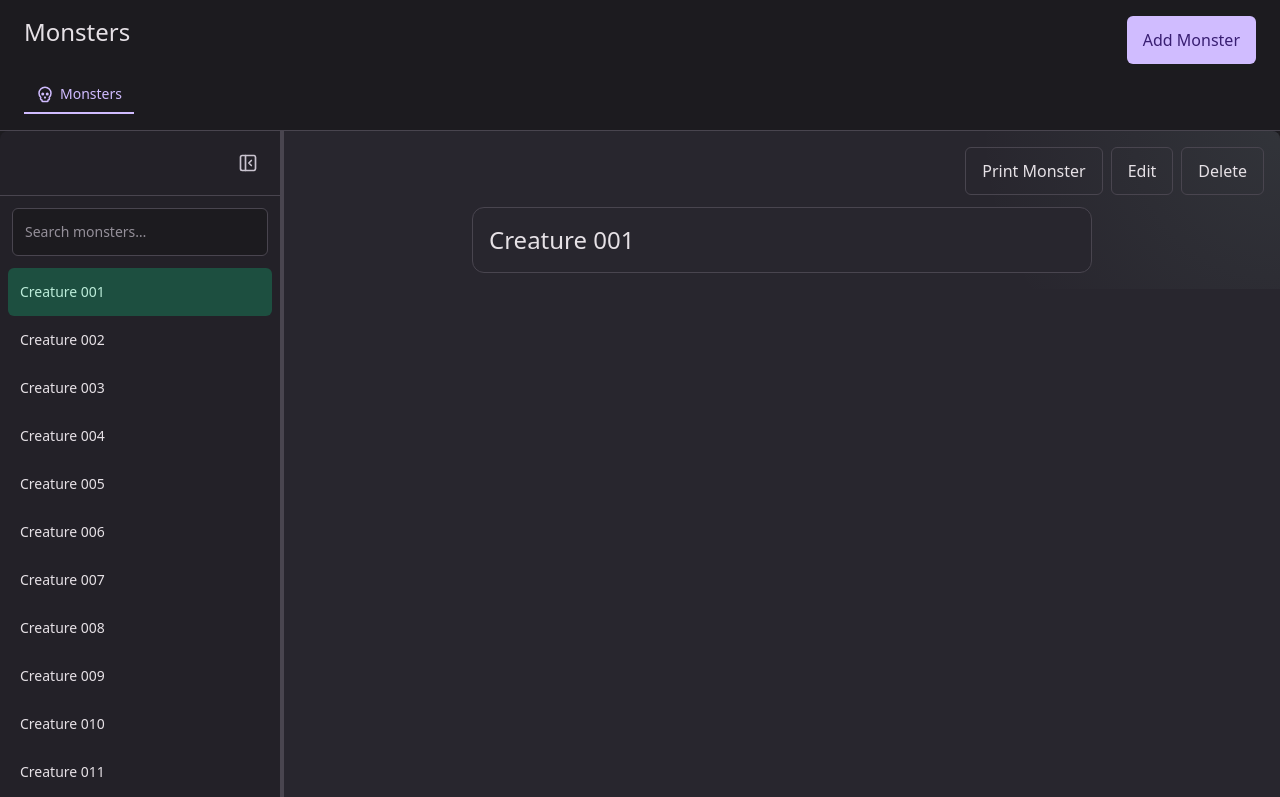
Scenario: MonsterBrowserPage › searches and selects a monster after the first 100 catalog rows
Expected: the button "Creature 001" is shown, [8,268,272,316]
Type "Beyond First" into the search field labelled "Search monsters…" at (140, 232), box [12,208,268,256]
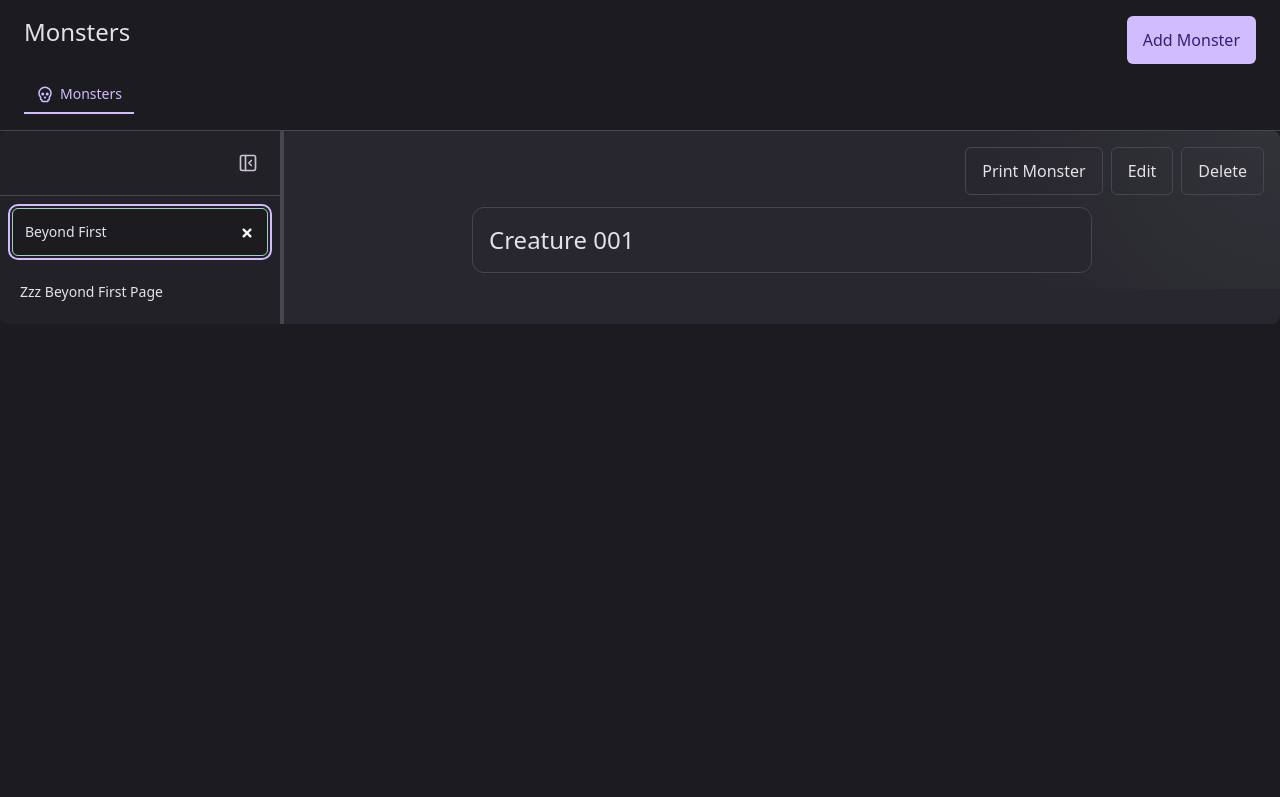
Click the button "Zzz Beyond First Page" at (140, 292), box [8,268,272,316]
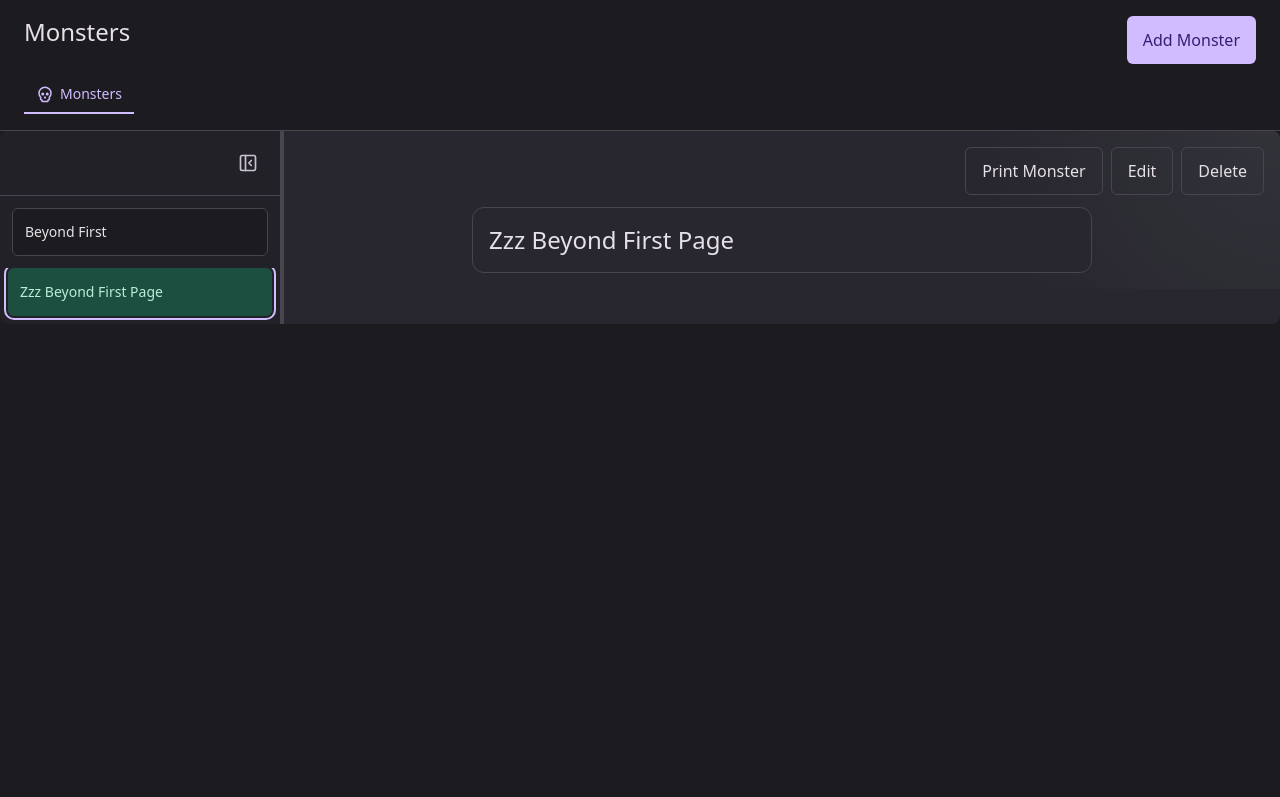
Now the heading "Zzz Beyond First Page" is shown, box [489,224,734,256]
